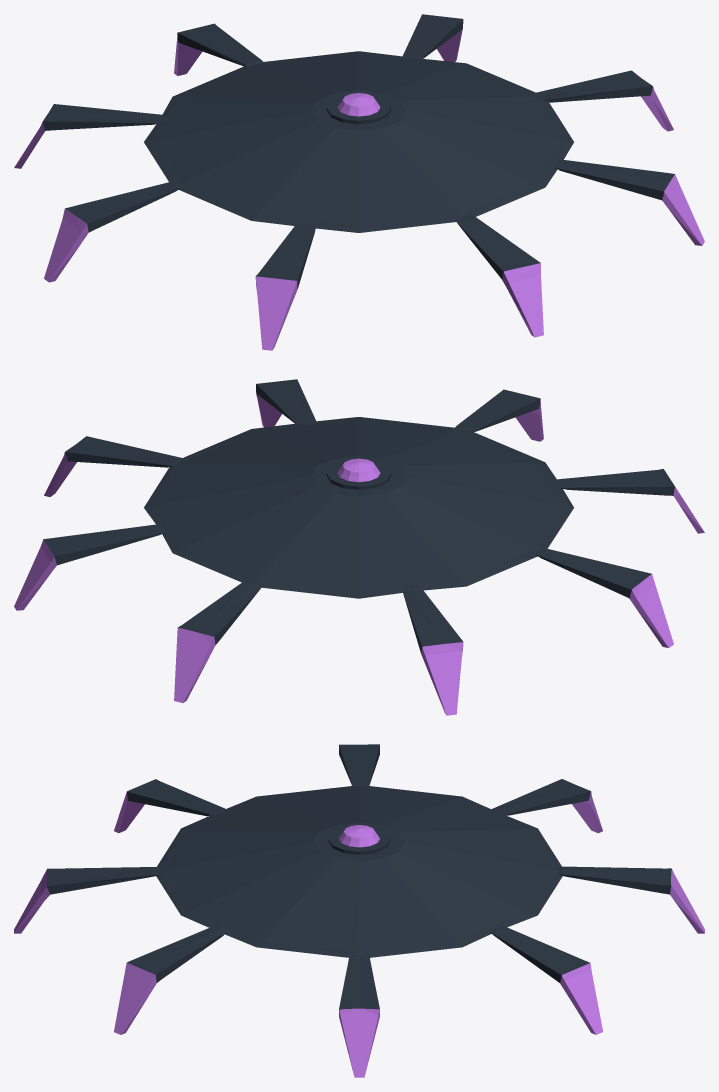
Rendered from Spider_Plant_000005.obj.
3 renders of one model, top to bottom at view 1: azimuth 30°, elevation 25°; view 2: azimuth 150°, elevation 25°; view 3: azimuth 270°, elevation 25°, orthographic. The views are drawn at different scales.
Parts seen in each view (by area): view 1: Circle_Circle.001; view 2: Circle_Circle.001; view 3: Circle_Circle.001.
Part boxes in pixels (x1,y1,x2,y2): Circle_Circle.001: (14,14,704,350); Circle_Circle.001: (14,379,704,715); Circle_Circle.001: (14,744,704,1077).
Size of the model in its own units: 3.35 by 0.5512 by 3.35.
